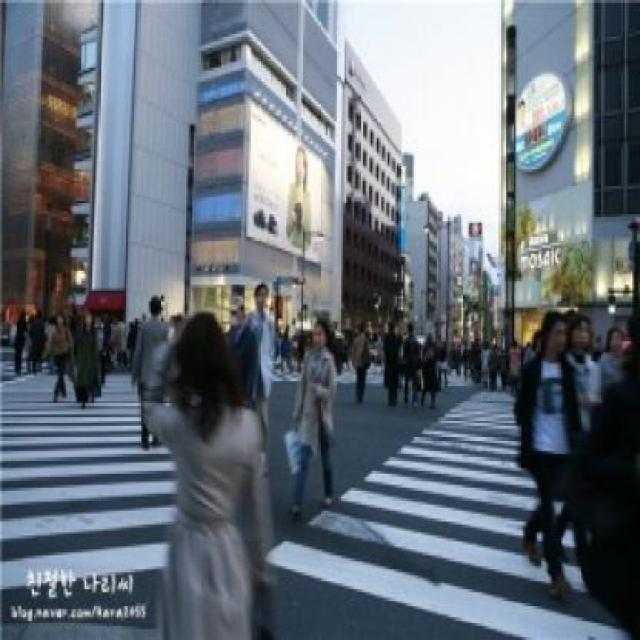Person: (143, 305, 277, 637), (520, 305, 580, 606), (288, 311, 344, 515), (74, 310, 101, 405), (48, 310, 70, 402), (350, 324, 372, 405), (418, 332, 440, 413), (382, 318, 400, 405), (401, 321, 419, 402)
